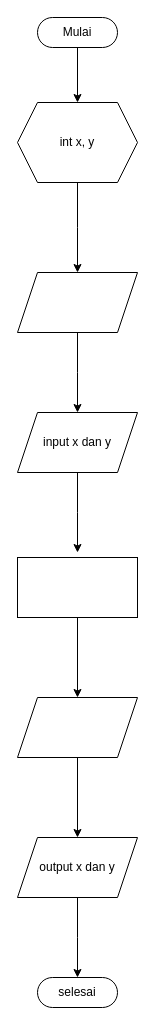
Some shapes in this 155 by 1025 pixel diagram are drawn without their labels. Each missing label, with the centre of its shape:
c=a a=b b=c: [77,587]
sebelum ditukar: [77,302]
setelah ditukar: [77,727]
